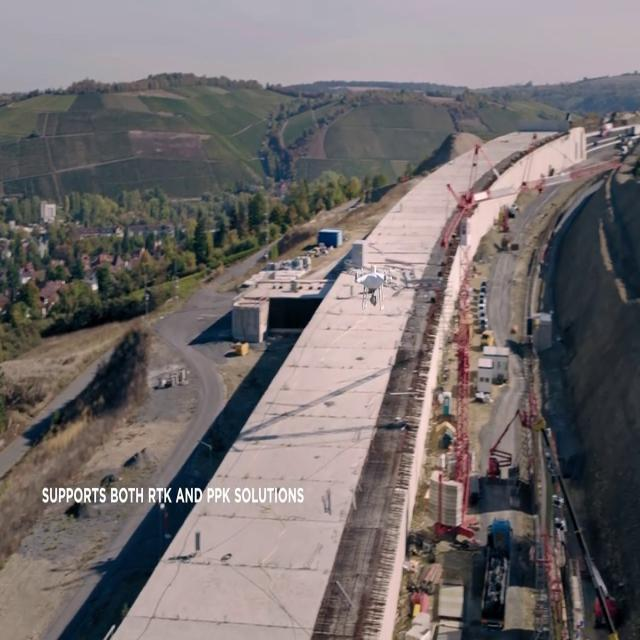drone: (349, 261, 394, 312)
